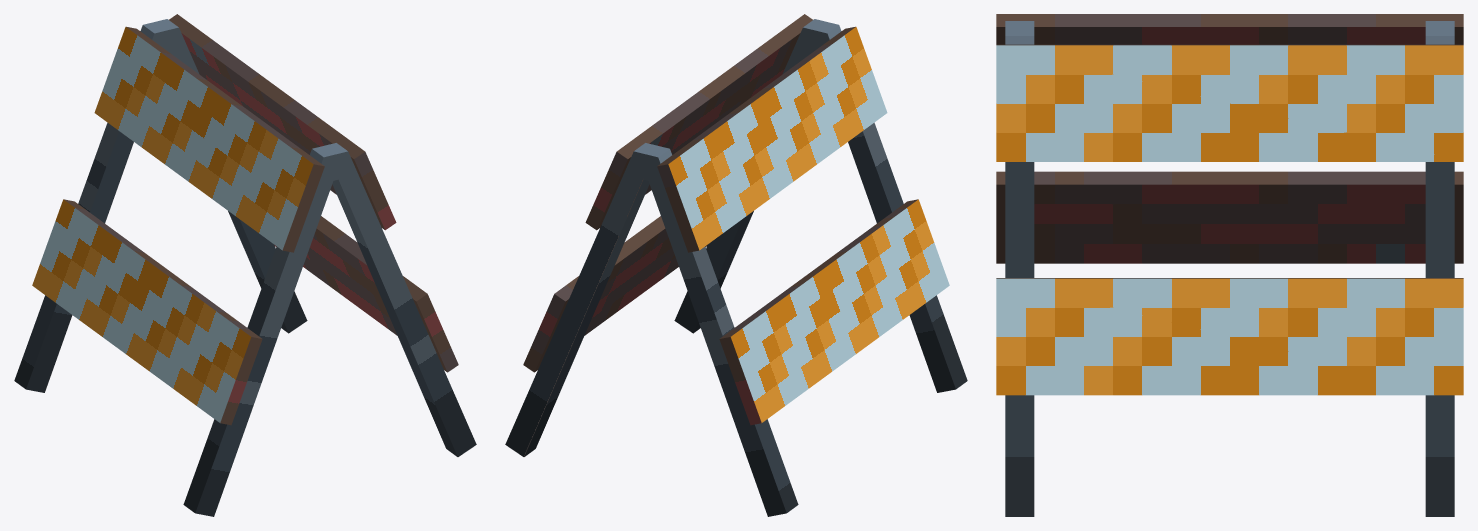
File: RoadBlockade.gltf
The picture shows the model from 3 angles, left to right: view 1: azimuth 30°, elevation 25°; view 2: azimuth 150°, elevation 25°; view 3: azimuth 270°, elevation 25°; orthographic projection. The views are drawn at different scales.
Parts seen in each view (by area): view 1: cuboid (×6); view 2: cuboid (×6); view 3: cuboid (×6).
Boxes of the visible parts, box(x1,y1,x2,y2) form: cuboid (×6): box(14, 14, 476, 516); cuboid (×6): box(505, 14, 967, 516); cuboid (×6): box(996, 14, 1463, 516).
Size of the model in its own units: 0.8644 by 0.9766 by 1.
Materials: 1 (1 with a texture image).
